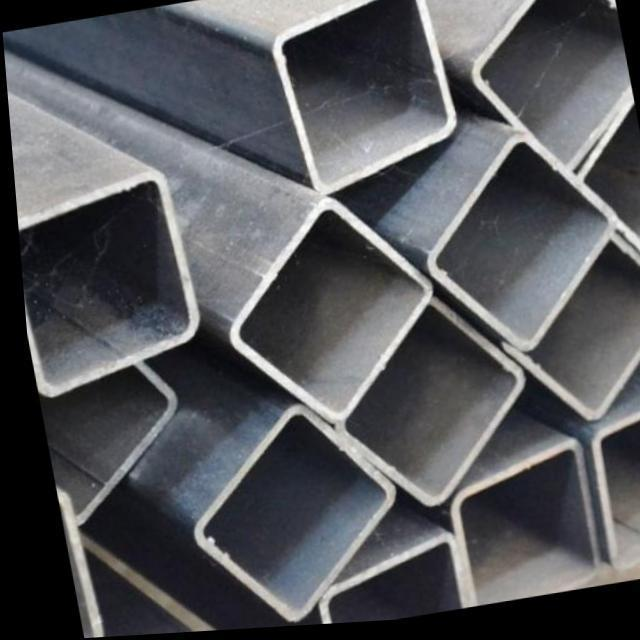pipe: (224, 205, 427, 427), (187, 410, 389, 627), (424, 138, 611, 355), (14, 173, 190, 393), (332, 307, 520, 511), (273, 0, 453, 196), (470, 0, 630, 176), (441, 451, 589, 611), (520, 244, 640, 427), (585, 418, 640, 574)
